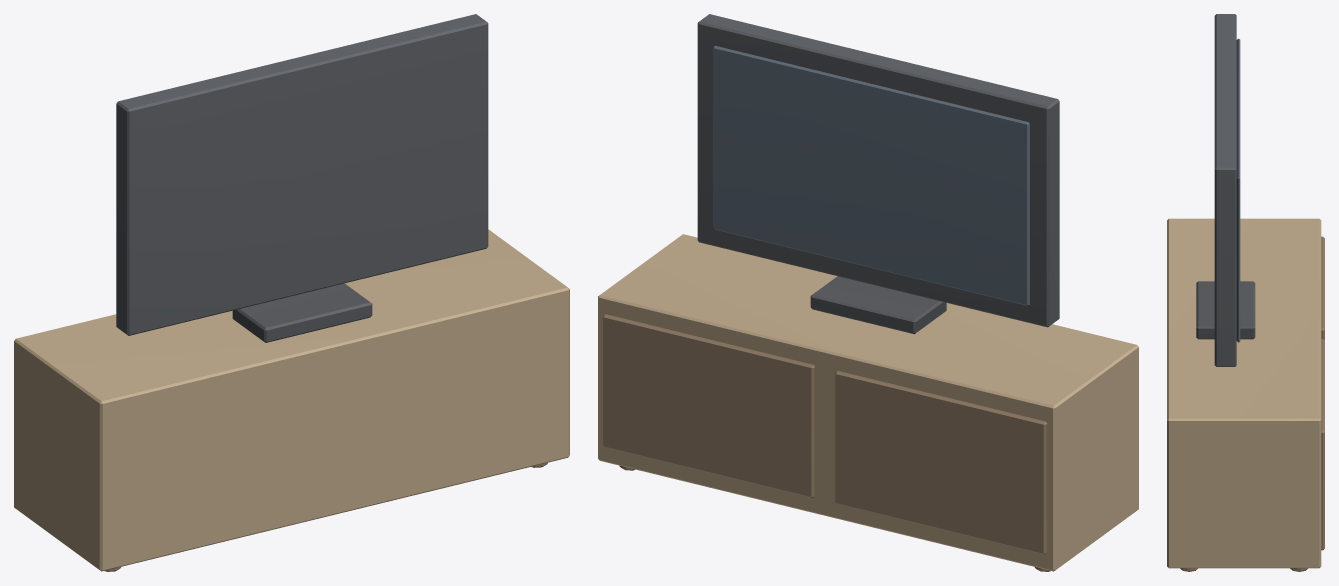
Rendered from furn_tv_stand__oak.glb.
3 views of the same model, side by side, from view 1: azimuth 30°, elevation 25°; view 2: azimuth 150°, elevation 25°; view 3: azimuth 270°, elevation 25° (orthographic). The views are drawn at different scales.
Bounding box in the file's own units: 1.3 × 1.16 × 0.43.
